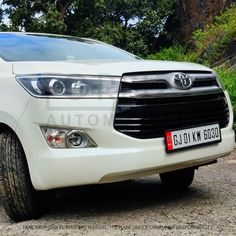numberplate: (165, 121, 222, 153)
